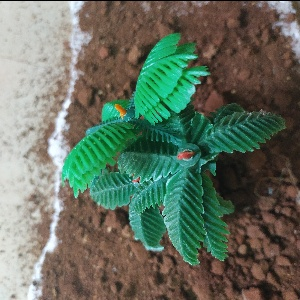plant: (61, 32, 283, 272)
